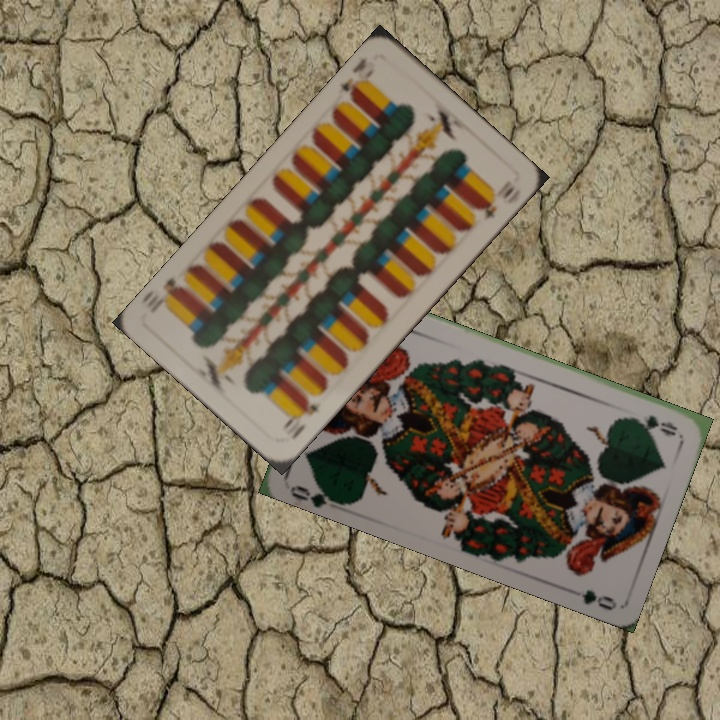E10: (278, 393, 321, 443), (336, 54, 378, 104)
GO: (286, 476, 344, 508), (622, 411, 680, 439)
